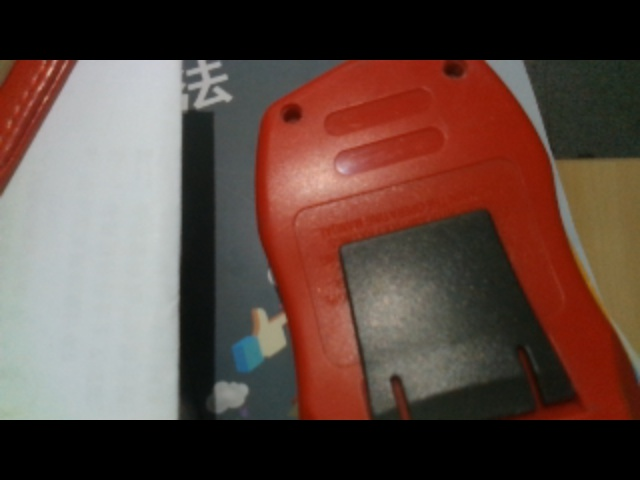Screw holes: (442, 59, 470, 81), (279, 102, 306, 124)
